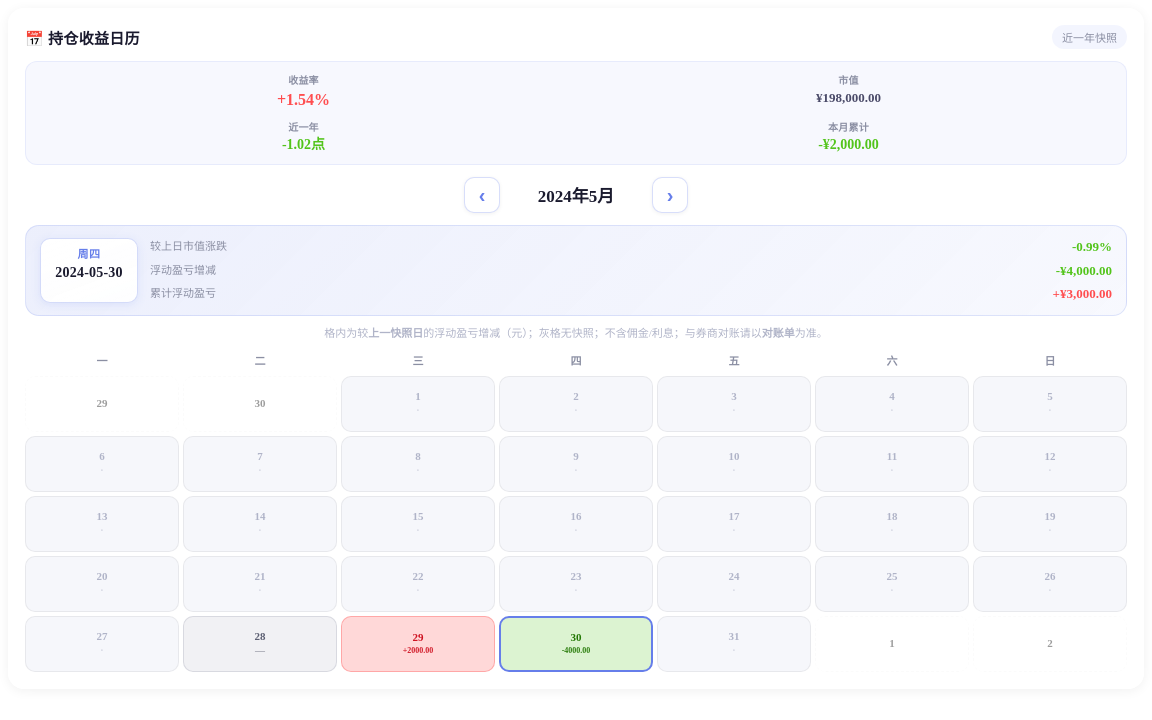
Test case: ProfitChart › selects a day and shows detail strip
Expected: the text with test id "calendar-title" reads "2024年5月", [538,188,614,206]
Click the button with test id "calendar-cell-2024-05-29": (418, 644) [341,616,495,672]
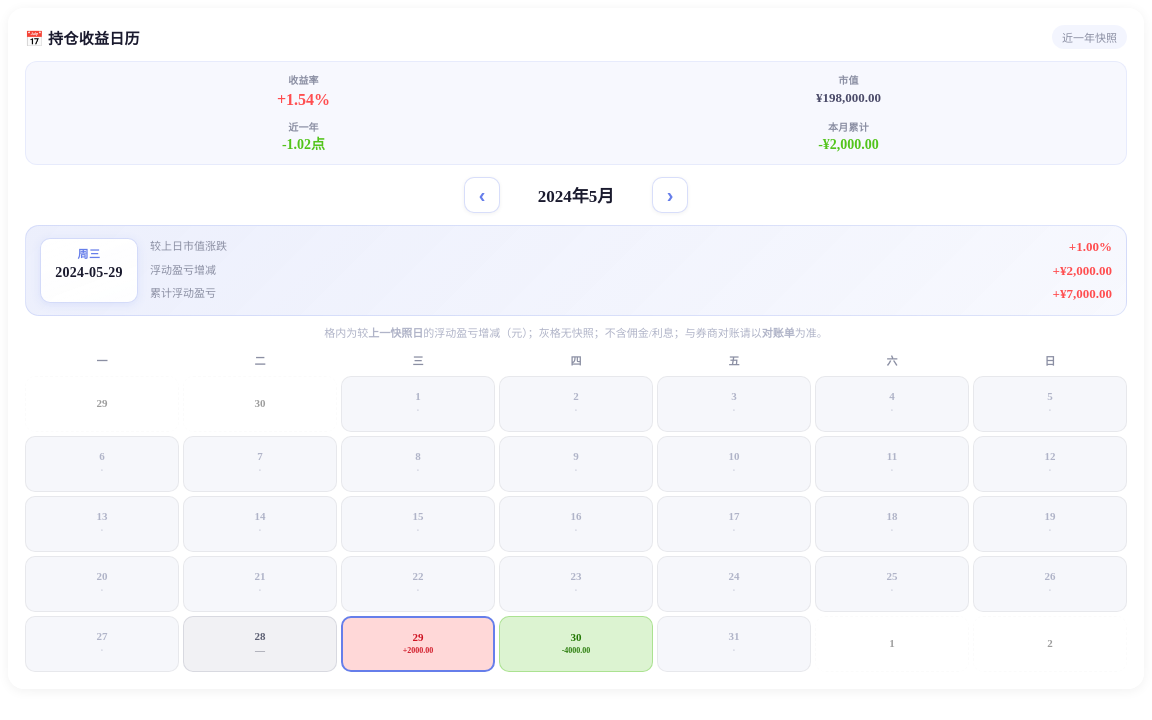
Expected: the text with test id "day-mv-pct" reads "+1.00%", [1069,239,1112,254]
Expected: the text with test id "day-profit-delta" reads "+¥2,000.00", [1053,262,1112,278]
Expected: the text with test id "day-cumulative-pnl" reads "+¥7,000.00", [1053,286,1112,301]
